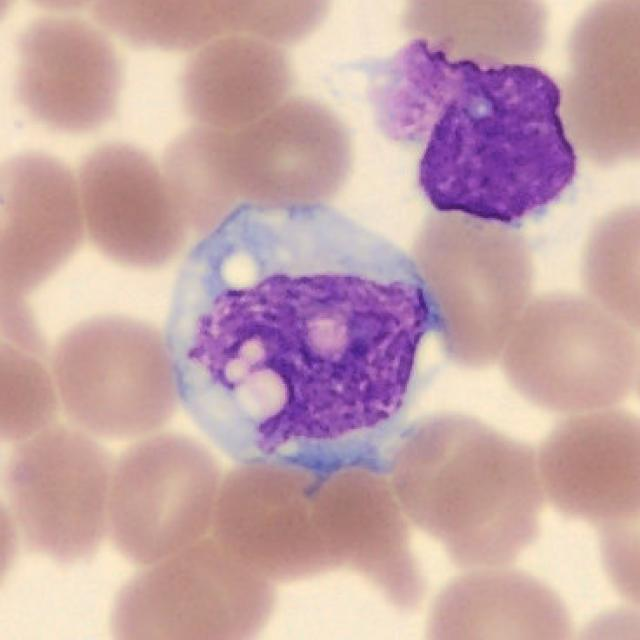Linfocito atipico: (163, 202, 447, 495)
Restos celulares: (346, 38, 576, 227)
